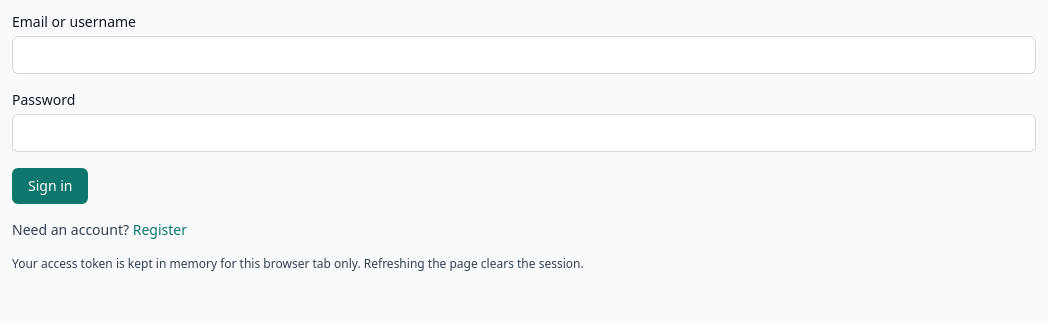
LoginForm › shows invalid credentials error
The image size is (1048, 324).
Type "testuser" into the field labelled "Email or username". click: (524,55)
box: x1=12 y1=36 x2=1036 y2=74
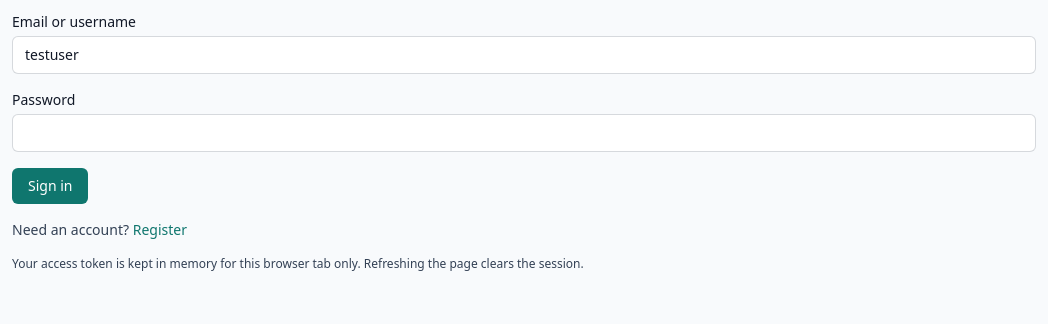
Type "password123456" into the password field labelled "Password". click: (524,133)
box: x1=12 y1=114 x2=1036 y2=152
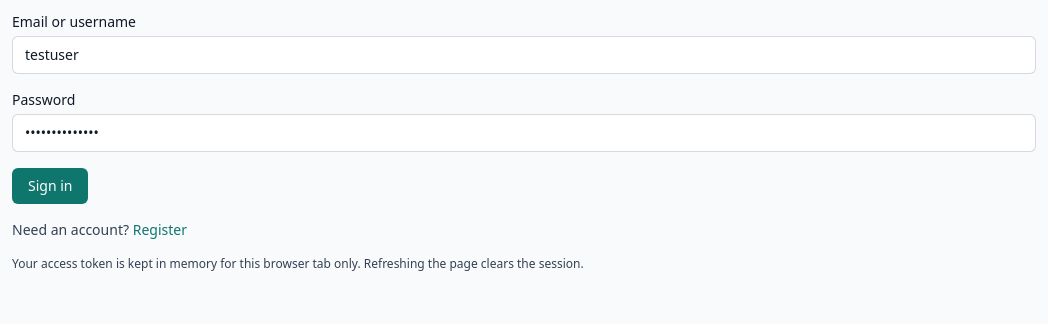
Click the button "Sign in". click: (50,186)
box: x1=12 y1=168 x2=88 y2=204
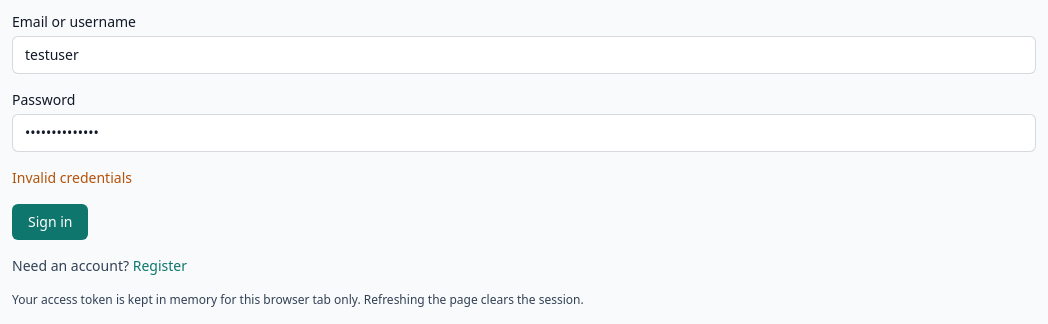
Expected: the text "Invalid credentials" is shown, x1=12 y1=168 x2=132 y2=187
